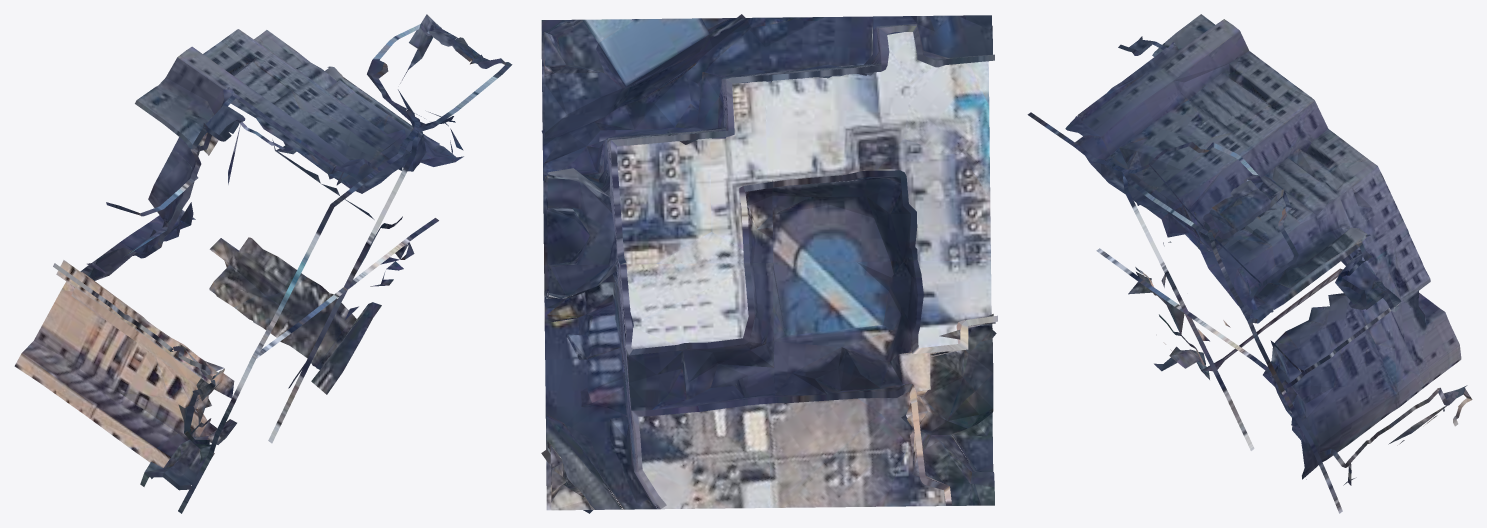
3 views of the same model, side by side, from view 1: azimuth 30°, elevation 25°; view 2: azimuth 150°, elevation 25°; view 3: azimuth 270°, elevation 25° (orthographic). The views are drawn at different scales.
Size of the model in its own units: 89.53 by 85.88 by 90.08.
Materials: 1 (1 with a texture image).
